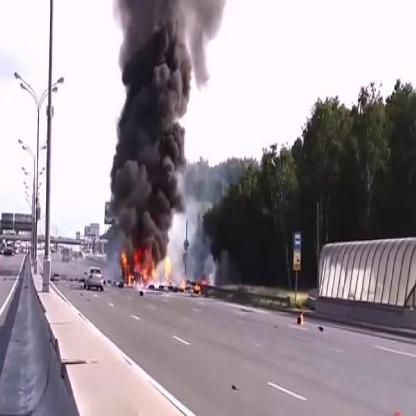fire: (116, 245, 174, 292), (178, 275, 207, 297), (300, 309, 305, 327)
